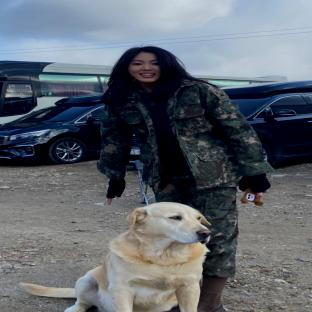Animal: (22, 202, 212, 312)
Human: (98, 46, 273, 312)
